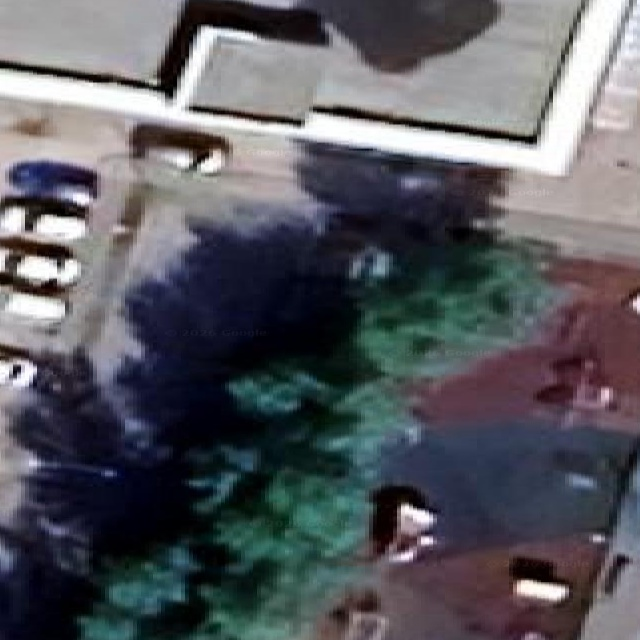car: (129, 123, 230, 175), (7, 160, 98, 206), (0, 196, 84, 240)
